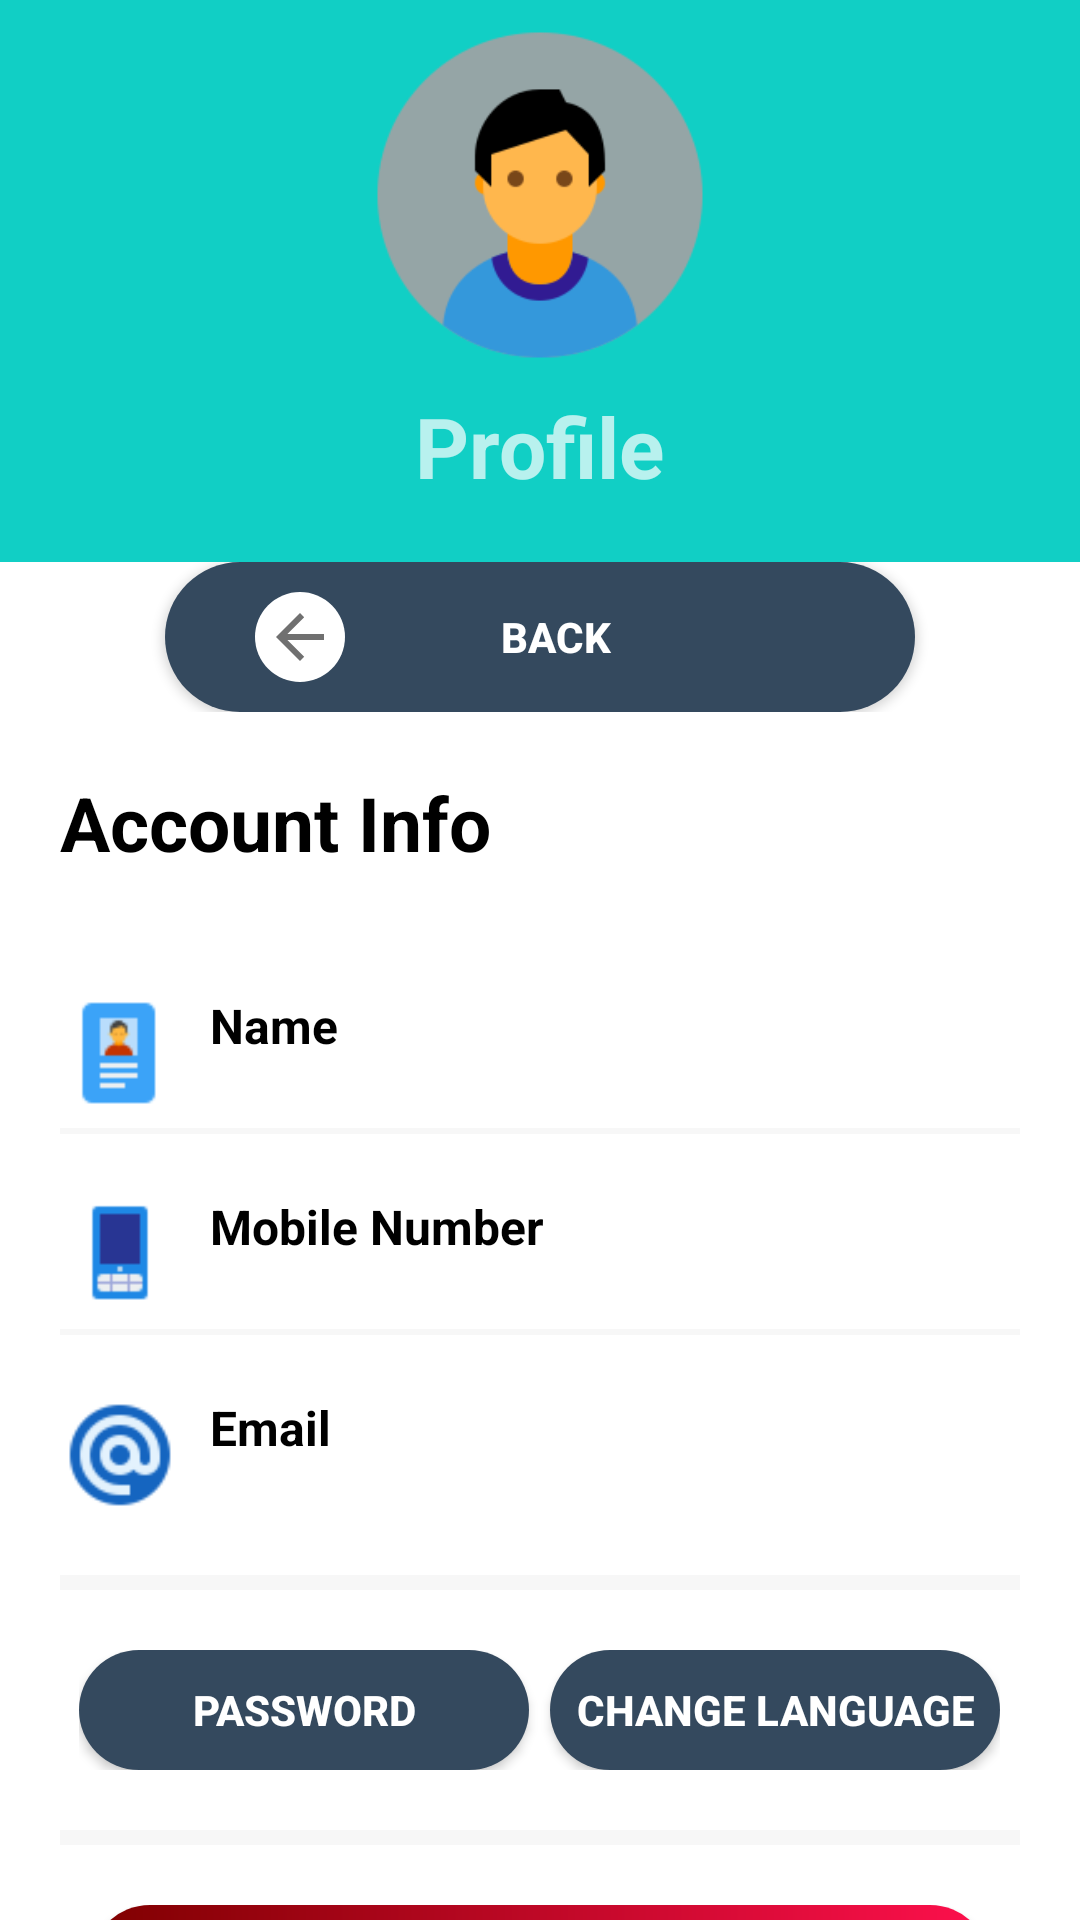

Where icons sit on this 1080w x 1920h app screen, as bbox(x1, y1, x2, y2):
mobileio: bbox(92, 1206, 148, 1300)
